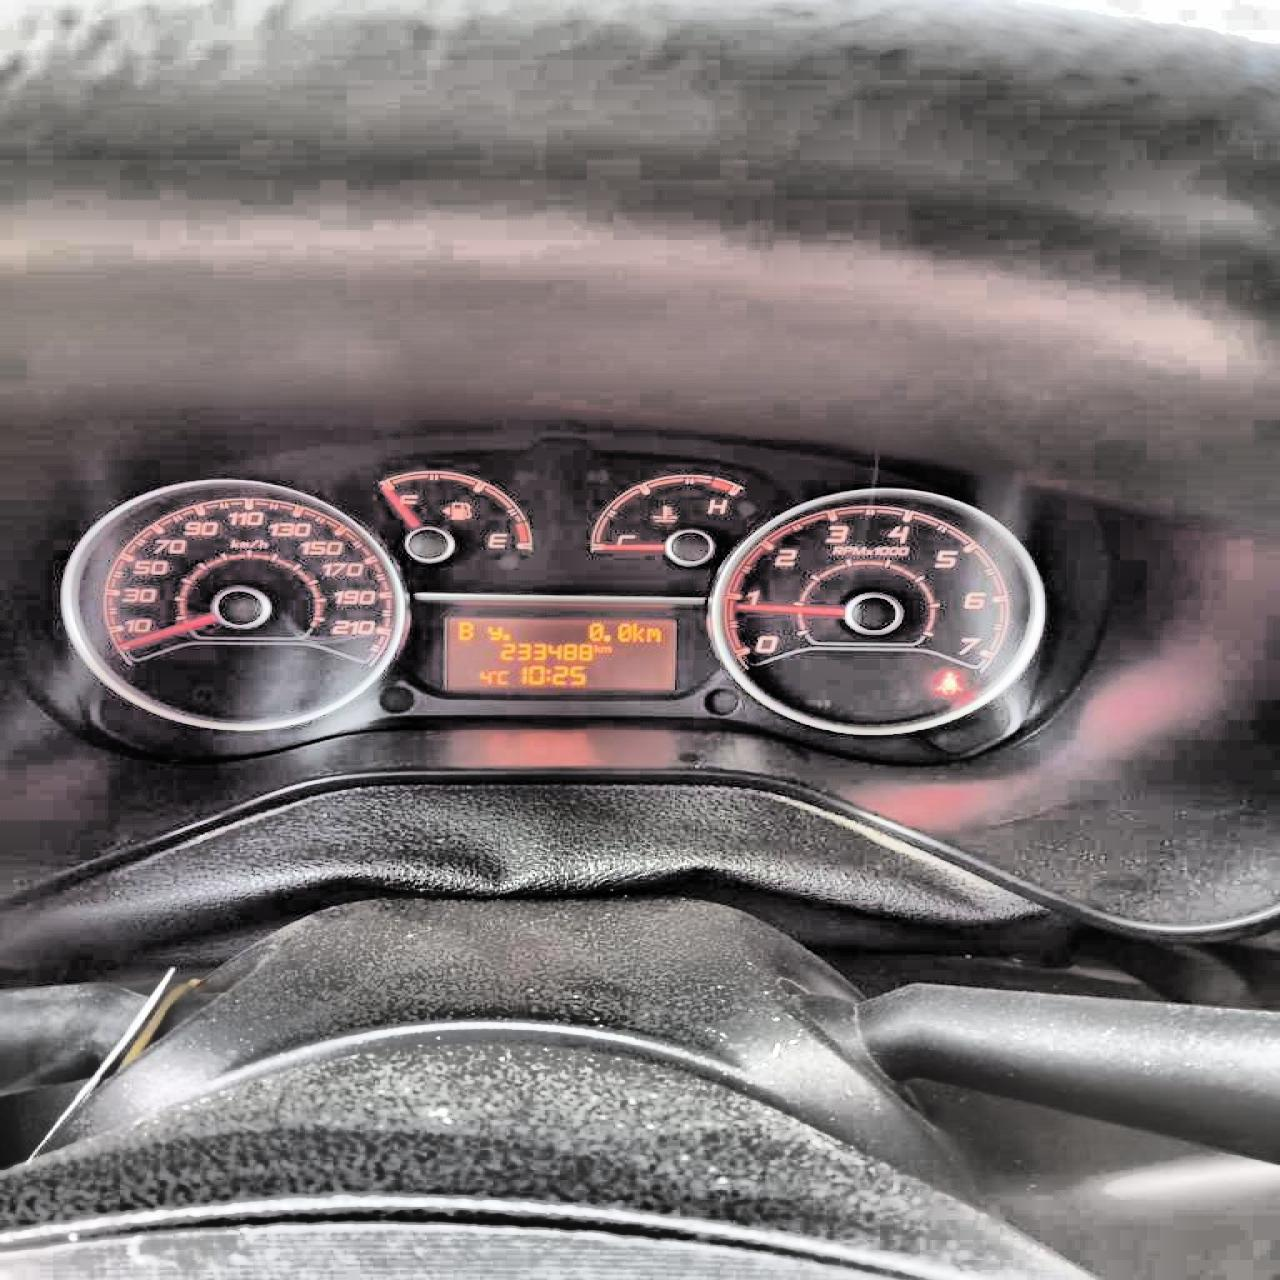-: (601, 634, 611, 641), (502, 632, 509, 640)
0: (526, 663, 543, 685), (586, 621, 601, 641), (615, 621, 629, 641)
1: (518, 663, 526, 685)
2: (550, 663, 567, 685), (498, 641, 515, 660)
3: (515, 641, 530, 660), (532, 642, 545, 660)
4: (545, 642, 560, 660), (478, 668, 490, 683)
5: (568, 665, 585, 685)
8: (561, 642, 577, 660), (577, 642, 592, 660)
X: (457, 621, 474, 640), (485, 625, 502, 640), (644, 626, 660, 641), (632, 621, 644, 641), (496, 670, 506, 685), (543, 667, 550, 681), (600, 645, 612, 653), (592, 642, 600, 652)
odometer: (434, 610, 683, 706)
